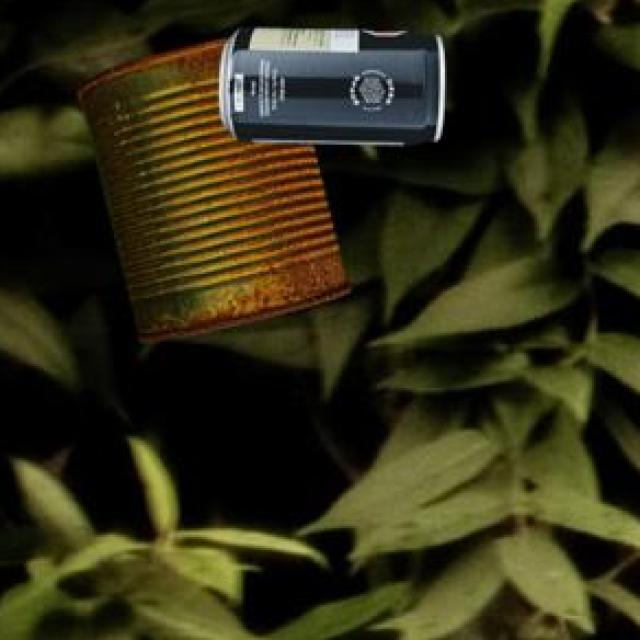logam: (73, 34, 350, 339), (216, 25, 442, 141)
